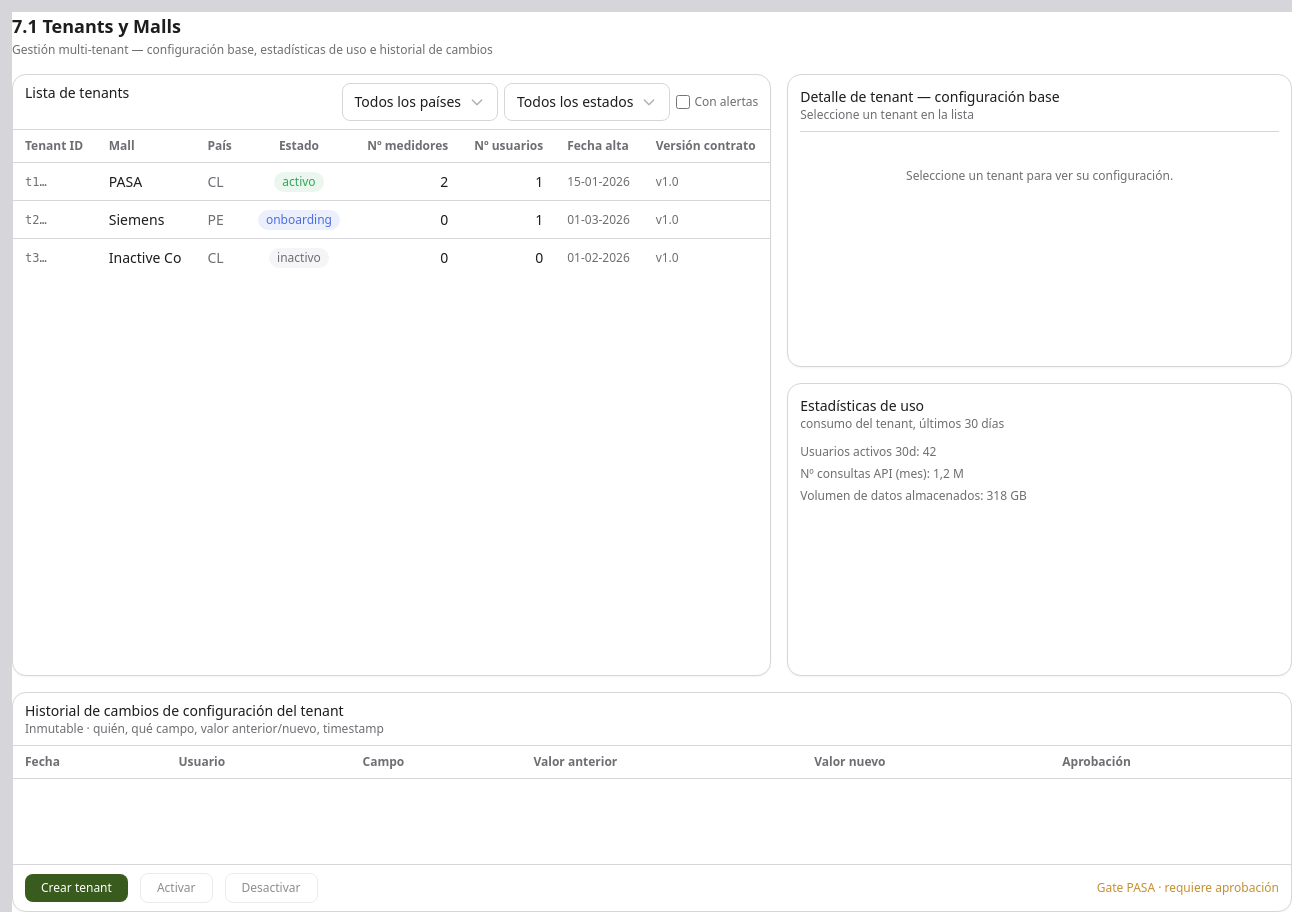
Scenario: TenantsMallsPage › shows detail panel content on row click
The image size is (1292, 912).
Click the text "PASA" at (125, 181), box [97,162,195,200]
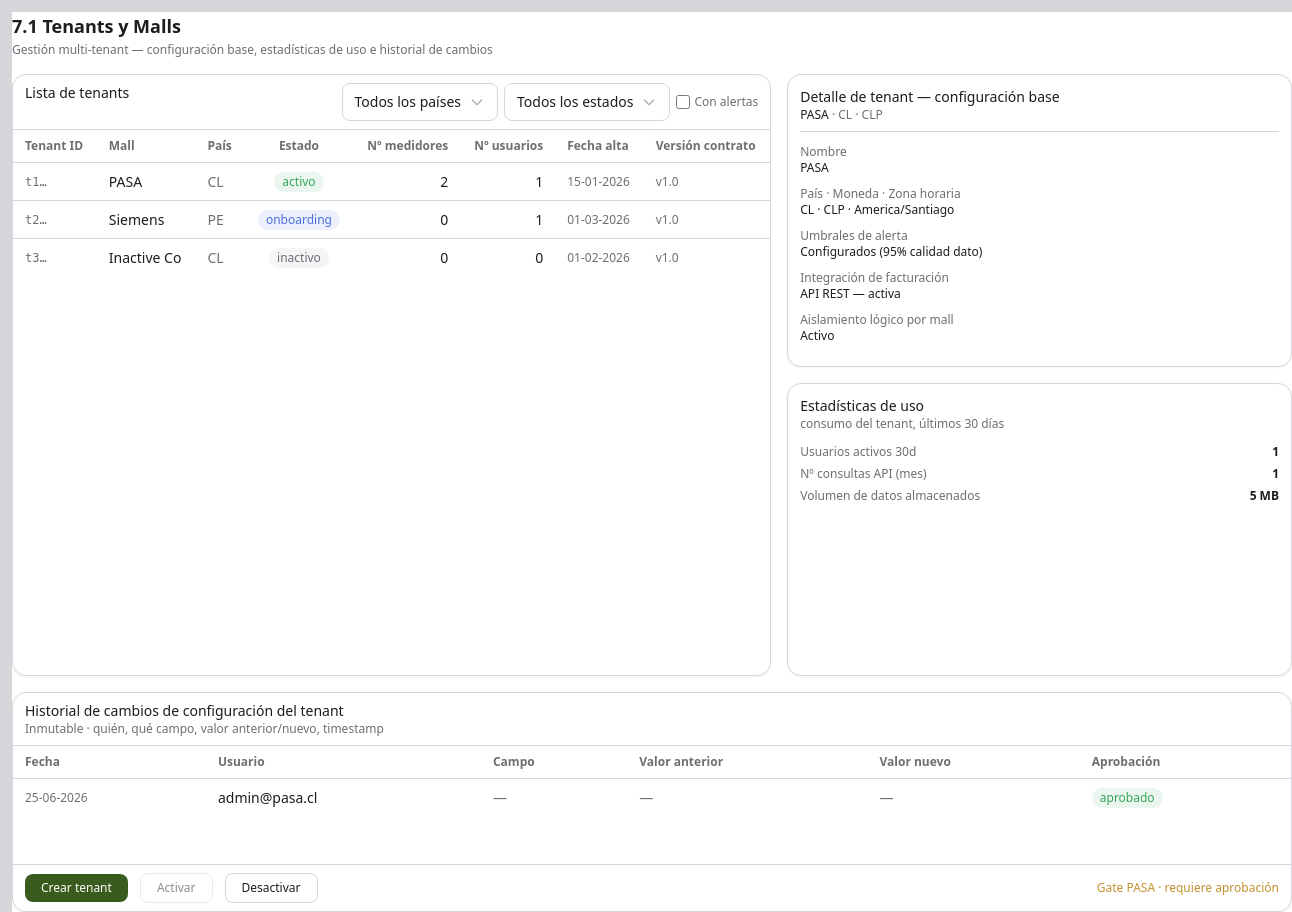
expect the text "CL · CLP · America/Santiago" is shown: met, box [800,201,954,218]
